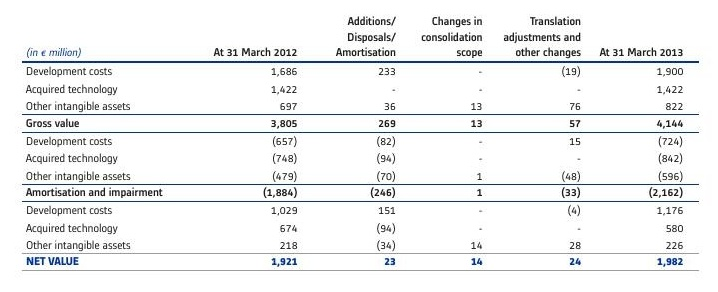table: (0, 0, 718, 292)
